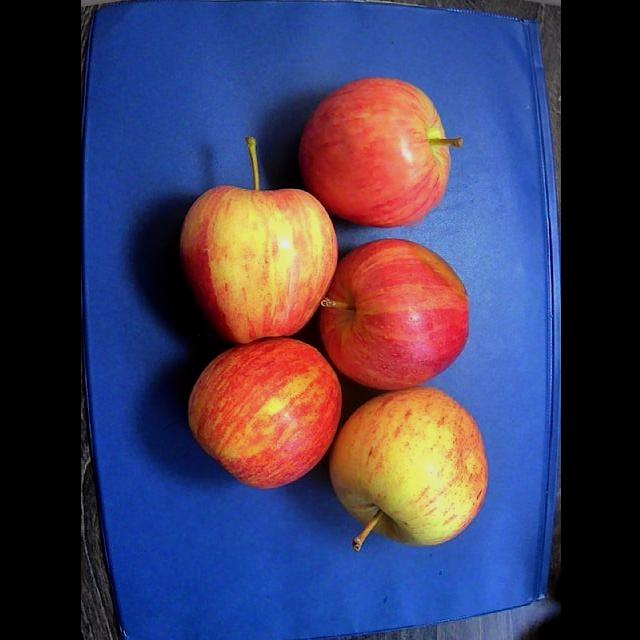manzana: (179, 137, 337, 343), (329, 387, 487, 550), (298, 78, 462, 226), (188, 338, 341, 487), (320, 239, 468, 389)
